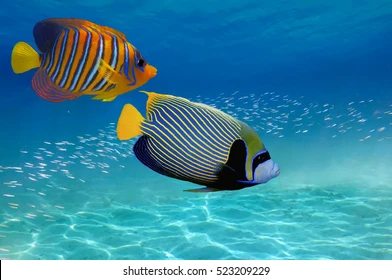Fish: (116, 90, 279, 193), (10, 17, 159, 101)
